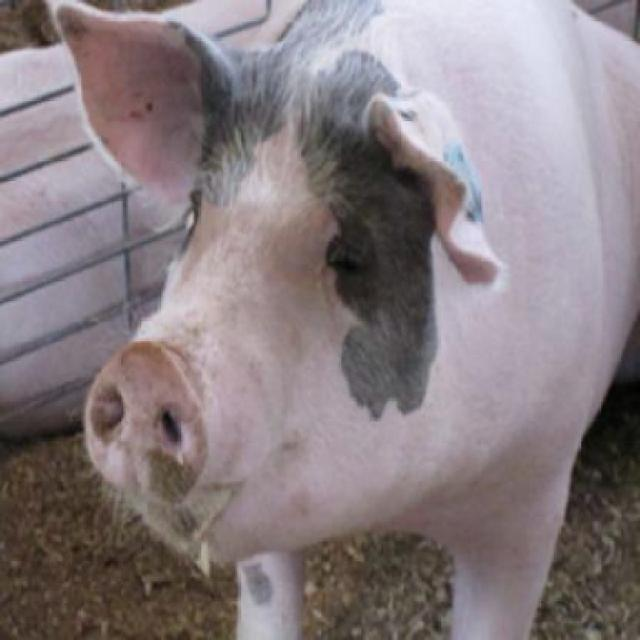Boar: (46, 0, 640, 638)
